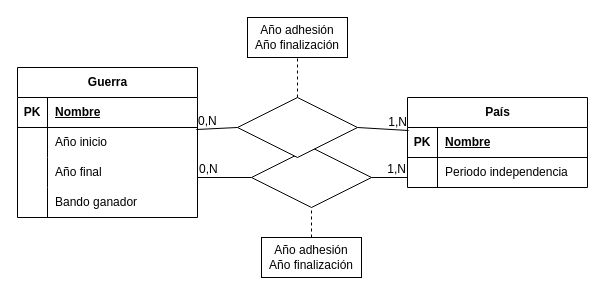
Some shapes in this 605 by 295 pixel diagram are drawn without their labels. The centre of each missing label's shape, as x and y in pixels:
"Bando 1" belongs at point 297,127.
"Bando 2" belongs at point 311,177.
